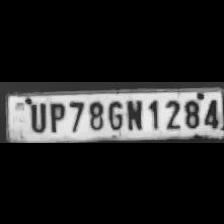1: (144, 96, 160, 130)
2: (160, 96, 182, 130)
4: (200, 96, 220, 128)
7: (64, 97, 84, 132)
8: (85, 97, 105, 130), (182, 96, 200, 128)
G: (104, 96, 124, 130)
N: (124, 96, 144, 130)
P: (46, 98, 66, 132)
U: (25, 100, 48, 132)
